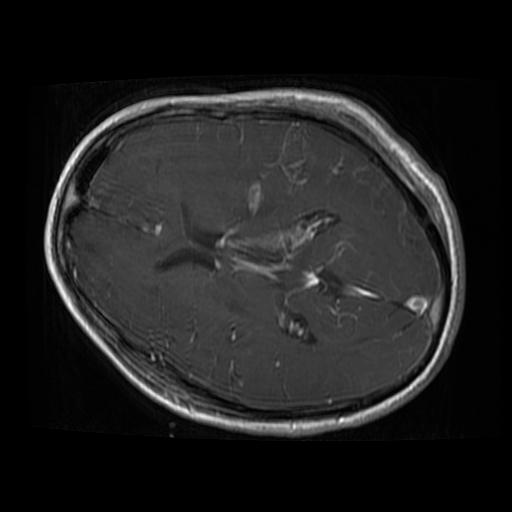glioma: (226, 209, 339, 262)
